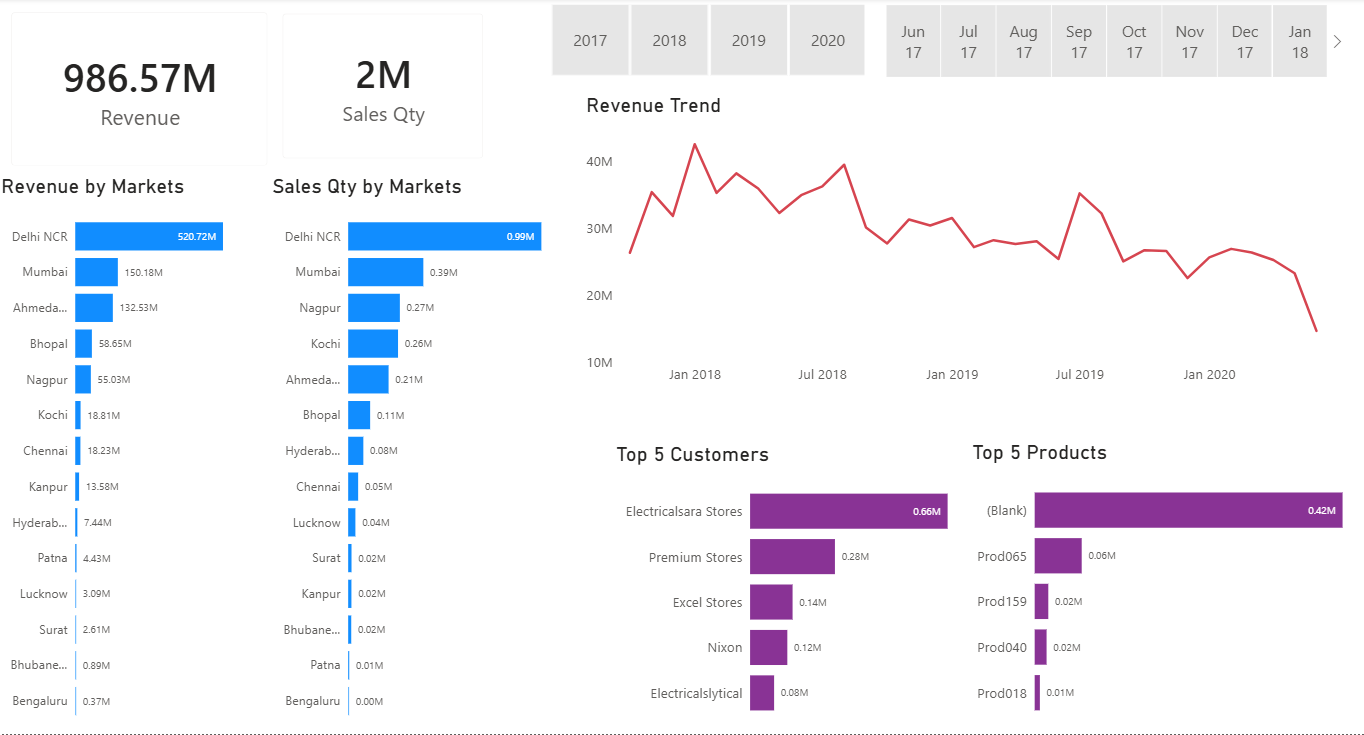

What the dashboard file says about the page in this screenshot:
{"tool":"powerbi","page":{"name":"Page 1","canvas":[1625,873],"ordinal":0},"visuals":[{"type":"cardVisual","fields":{"Data":["BaseMeasures.Revenue"]},"box":[0,0,272.7,207.4],"z":0},{"type":"cardVisual","fields":{"Data":["BaseMeasures.Revenue"]},"box":[0,0,338.1,216.5],"z":1000},{"type":"cardVisual","fields":{"Data":["BaseMeasures.Sales Qty"]},"box":[321.7,1.5,272.8,206.1],"z":3000},{"type":"barChart","title":"Revenue by Markets","fields":{"Y":["BaseMeasures.Revenue"],"Category":["sales markets.markets_name"]},"box":[0,209.1,321.7,664.2],"z":4000},{"type":"barChart","title":"Sales Qty by Markets","fields":{"Category":["sales markets.markets_name","sales customers.customer_name"],"Y":["BaseMeasures.Sales Qty"]},"box":[321.7,209.1,329.2,664.2],"z":5000},{"type":"slicer","fields":{"Values":["sales date.year"]},"box":[631.6,0,424,99.3],"z":6000},{"type":"slicer","fields":{"Values":["sales date.cy_date"]},"box":[1029,1.5,572.3,99.3],"z":7000},{"type":"barChart","title":"Top 5 Customers","fields":{"Category":["sales customers.customer_name"],"Y":["BaseMeasures.Sales Qty"]},"box":[729.5,526.4,403.3,346.9],"z":8000},{"type":"barChart","title":"Top 5 Products","fields":{"Category":["sales products.product_code"],"Y":["BaseMeasures.Sales Qty"]},"box":[1152,524.9,449.3,348.4],"z":9000},{"type":"lineChart","title":"Revenue Trend","fields":{"Y":["BaseMeasures.Revenue"],"Category":["sales date.cy_date.Variation.Date Hierarchy.Year","sales date.cy_date.Variation.Date Hierarchy.Quarter","sales date.cy_date.Variation.Date Hierarchy.Month","sales date.cy_date.Variation.Date Hierarchy.Day"]},"box":[693.9,112.7,907.4,355.8],"z":10000}]}

Visuals, with their boxes in screenshot pixels (x1, y1, x2, y2), scaled from the page's 1625x873 canvas onto the 1364x735 screenshot:
cardVisual - BaseMeasures.Revenue: box(0, 0, 229, 175)
cardVisual - BaseMeasures.Revenue: box(0, 0, 284, 182)
cardVisual - BaseMeasures.Sales Qty: box(270, 1, 499, 175)
"Revenue by Markets" barChart: box(0, 176, 270, 734)
"Sales Qty by Markets" barChart: box(270, 176, 546, 734)
slicer - sales date.year: box(530, 0, 886, 84)
slicer - sales date.cy_date: box(864, 1, 1344, 85)
"Top 5 Customers" barChart: box(612, 443, 951, 734)
"Top 5 Products" barChart: box(967, 442, 1344, 734)
"Revenue Trend" lineChart: box(582, 95, 1344, 394)
